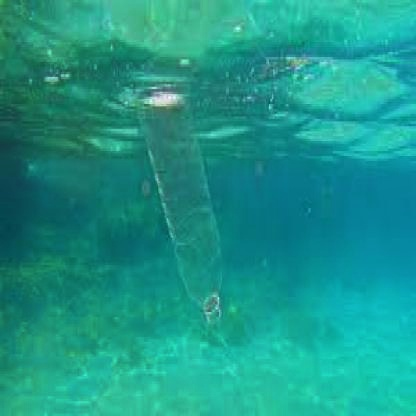pbottle: (135, 72, 226, 339)
